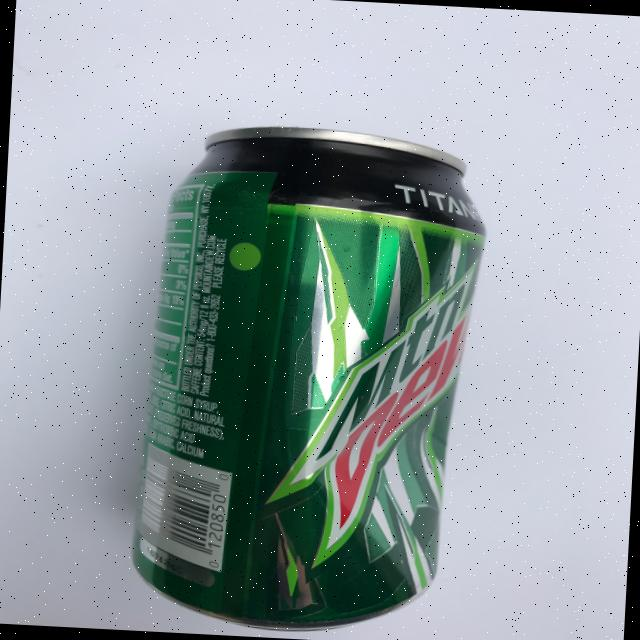metal: (127, 118, 492, 640)
